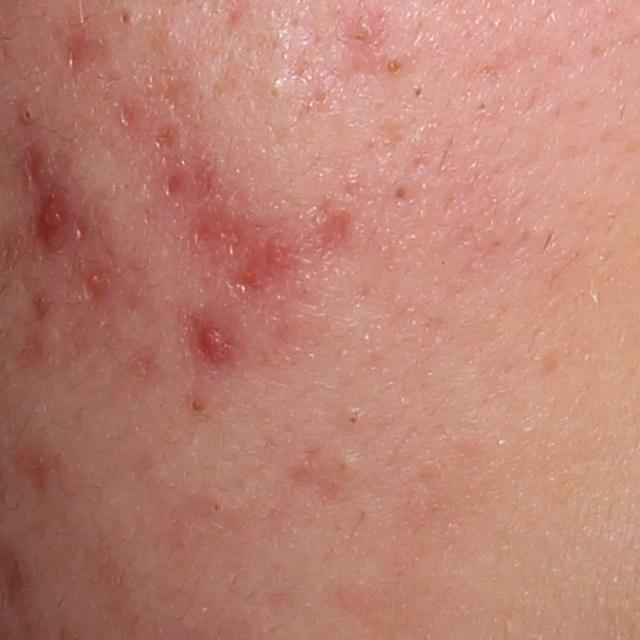atrophic_scar: (192, 196, 255, 259), (234, 234, 287, 300), (157, 156, 217, 209), (61, 22, 103, 76), (317, 208, 357, 257), (148, 117, 184, 154), (165, 77, 190, 111)
comedo: (258, 75, 290, 107), (332, 446, 362, 478), (339, 405, 367, 432), (383, 54, 407, 76), (390, 181, 412, 205), (115, 6, 135, 28), (18, 104, 36, 126), (187, 395, 206, 414)
papule: (34, 194, 71, 246), (195, 322, 230, 363), (354, 11, 384, 44)
